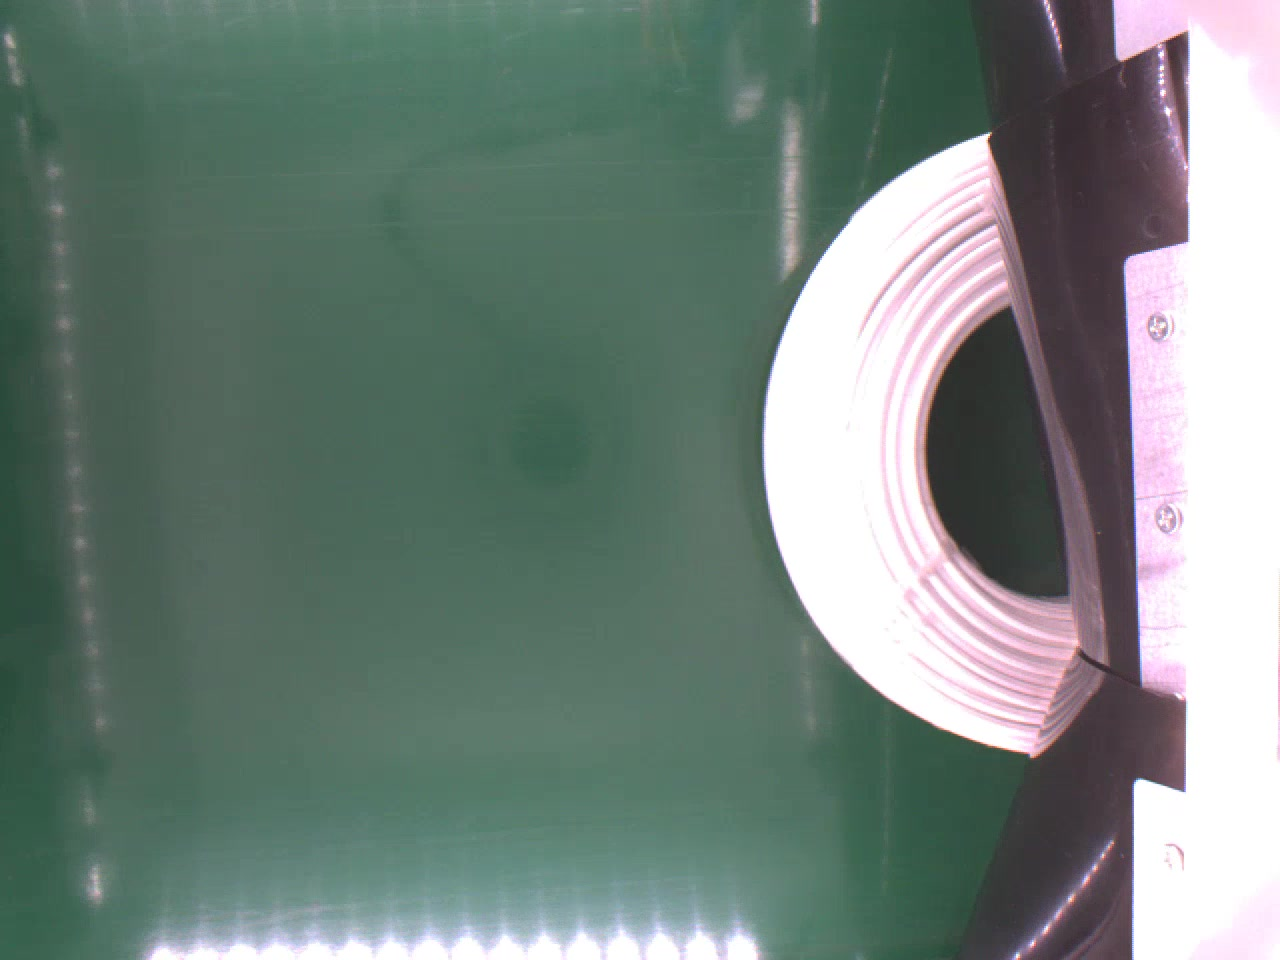white: (760, 132, 1077, 754)
